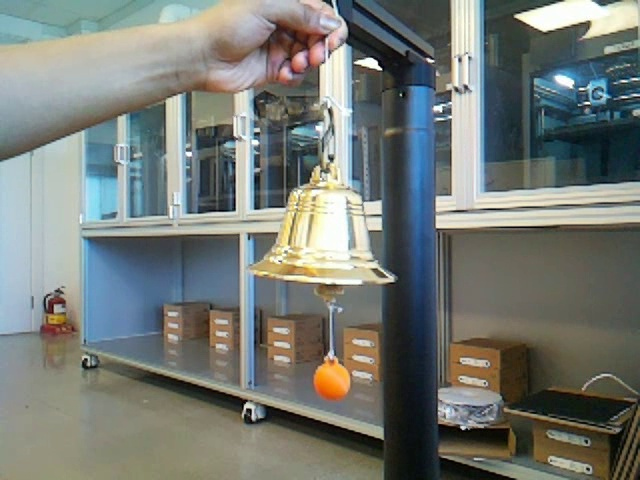bell: (249, 168, 397, 286)
pole: (377, 74, 441, 480)
